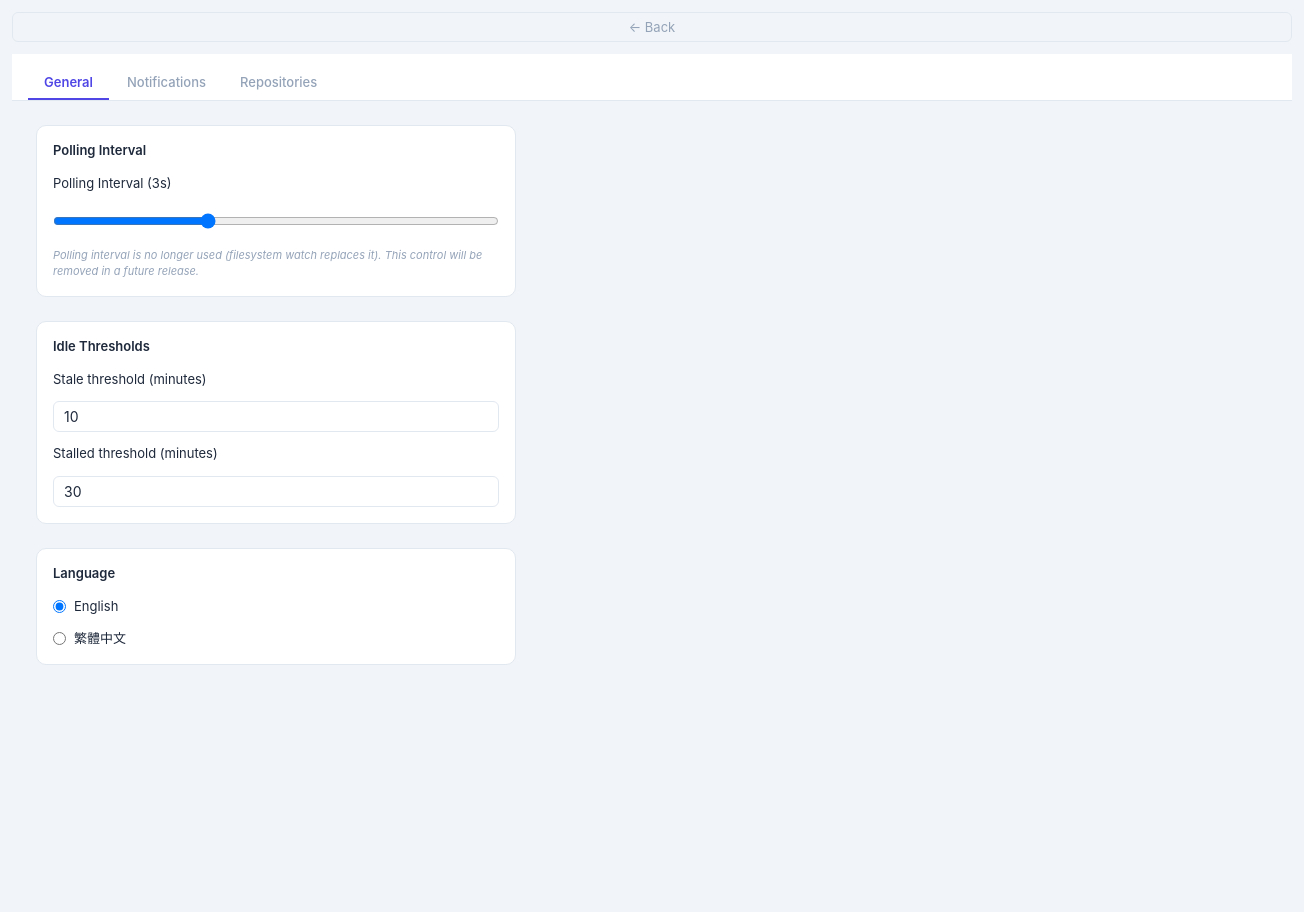
Test: Settings — Repositories tab (AC2.a/b/c) › shows Add repository button
Click the tab "Repositories". click: [279, 83]
box: [224,66,333,100]
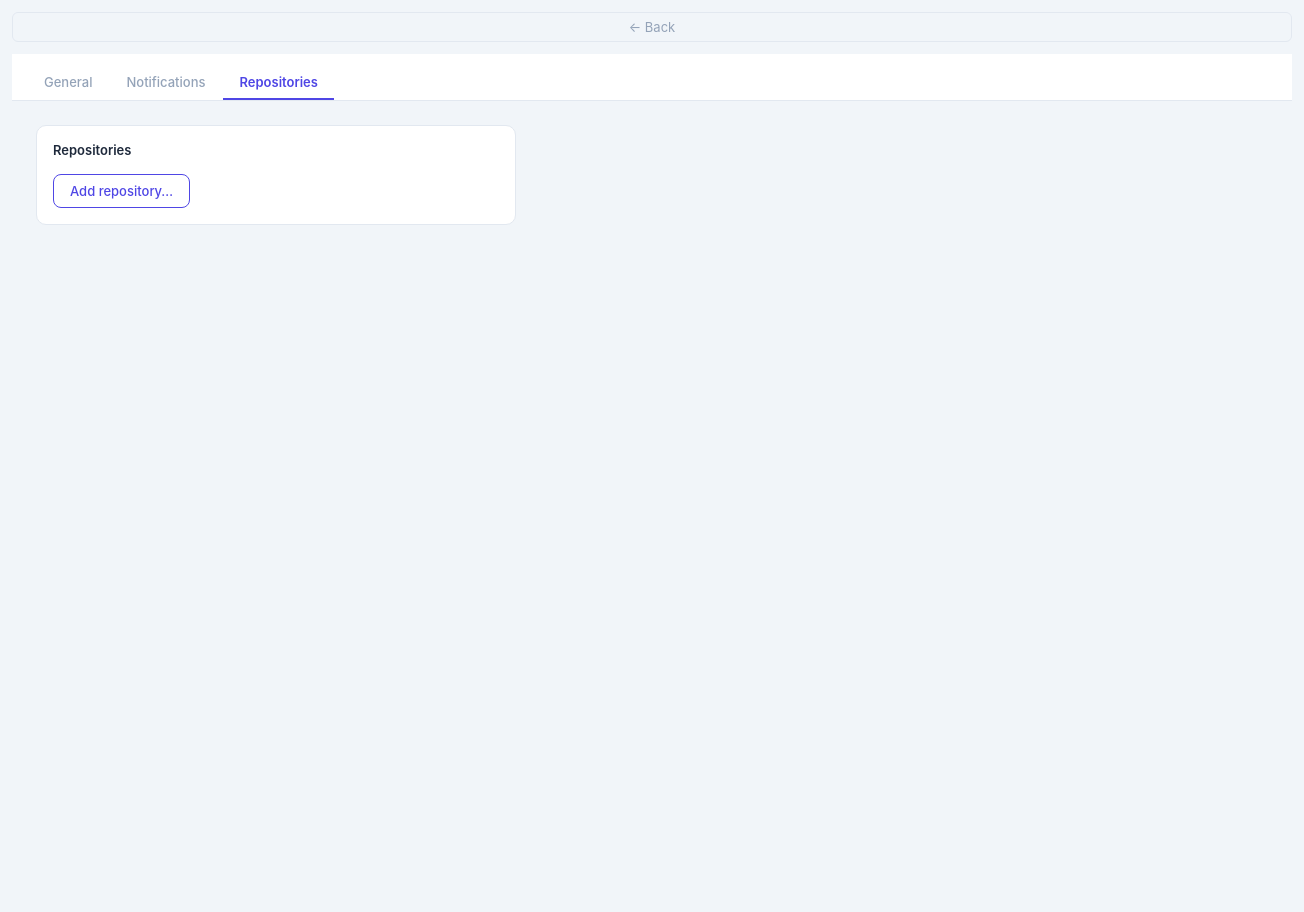
Check: the button "Add repository…" is shown, box [53,174,190,208]
